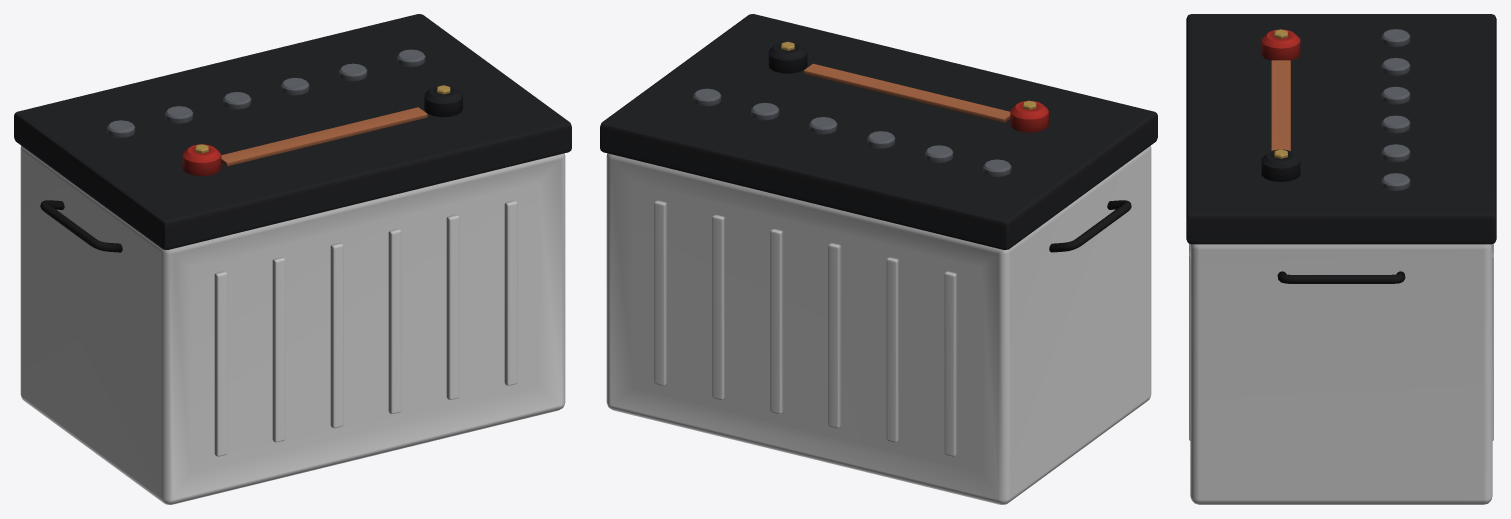
File: bateria.glb
3 views of the same model, side by side, from view 1: azimuth 30°, elevation 25°; view 2: azimuth 150°, elevation 25°; view 3: azimuth 270°, elevation 25° (orthographic).
Visible parts, largest first — view 1: cuerpo; view 2: cuerpo; view 3: cuerpo.
Part boxes in pixels (<box>): cuerpo: <box>14,14,571,504</box>; cuerpo: <box>600,14,1157,504</box>; cuerpo: <box>1186,14,1496,504</box>.
Bounding box in the file's own units: 0.8106 × 0.53 × 0.472.
